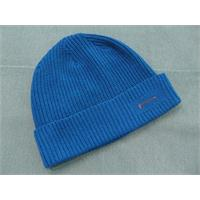hat: (32, 32, 182, 167)
